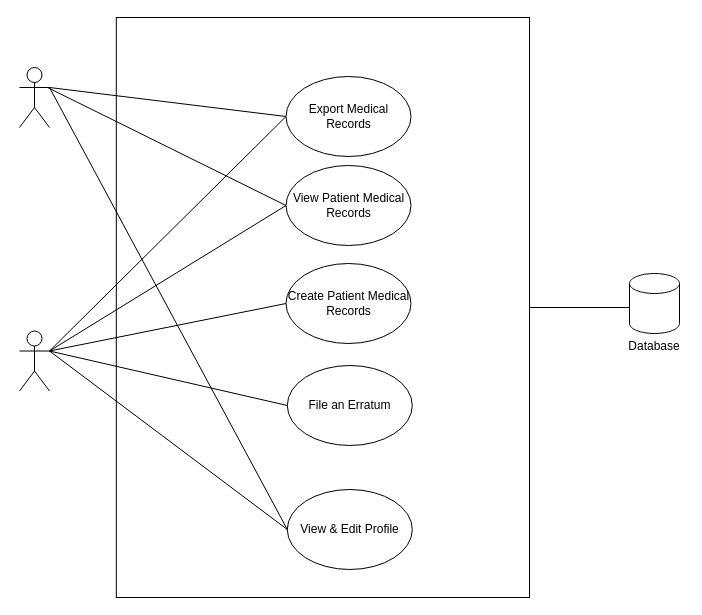
Some shapes in this 702 by 615 pixel diagram are drawn without their labels. Here are the shapes that lost their labels. From the top down, the box of each, then its label:
(18, 66, 50, 128): Nurse
(18, 330, 50, 391): Doctor
